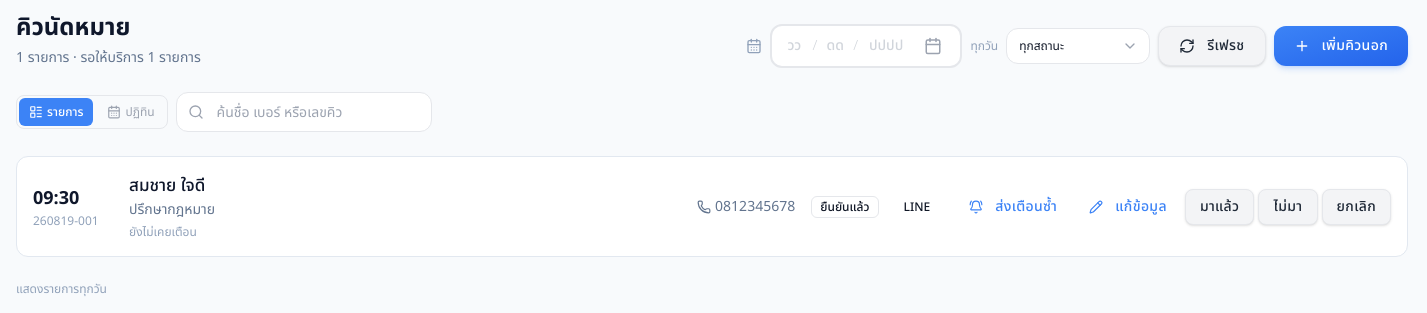
Test: counter actions › reflects the new status without a full reload
Click the button "มาแล้ว": (1220, 207) [1185,189,1254,225]
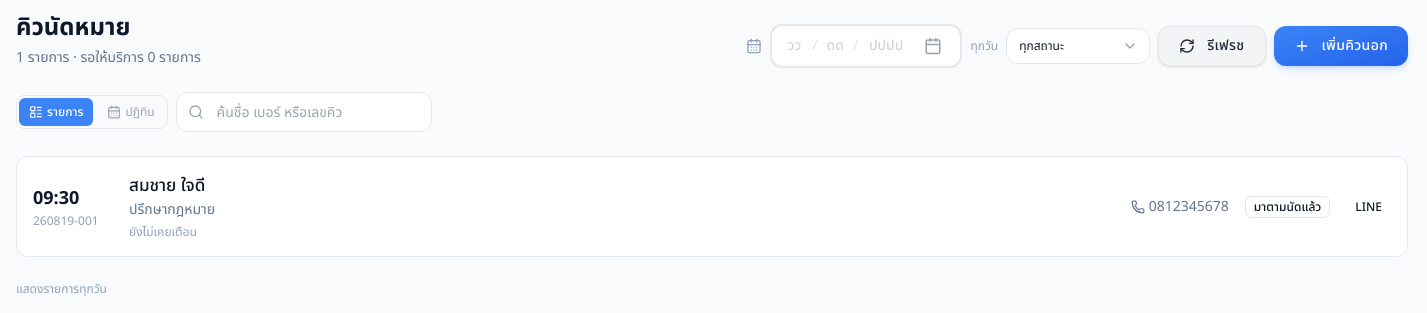
Expected: the text "มาตามนัดแล้ว" is shown, [1245,196,1330,218]
